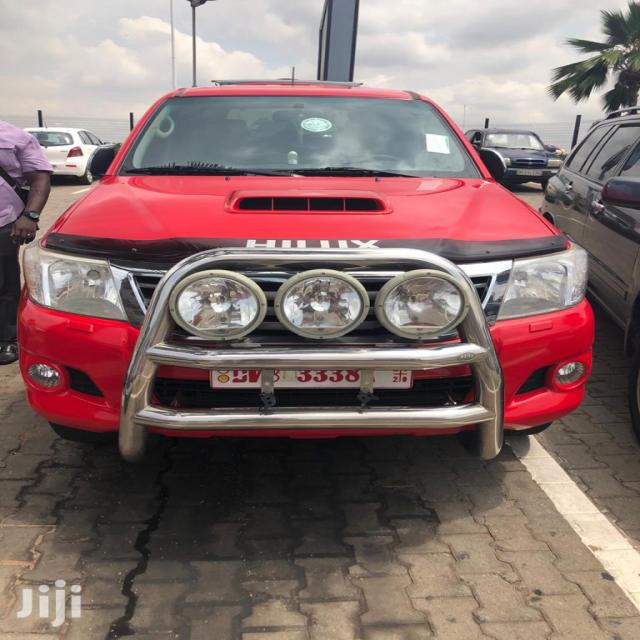light_vehicle: (34, 62, 602, 460)
